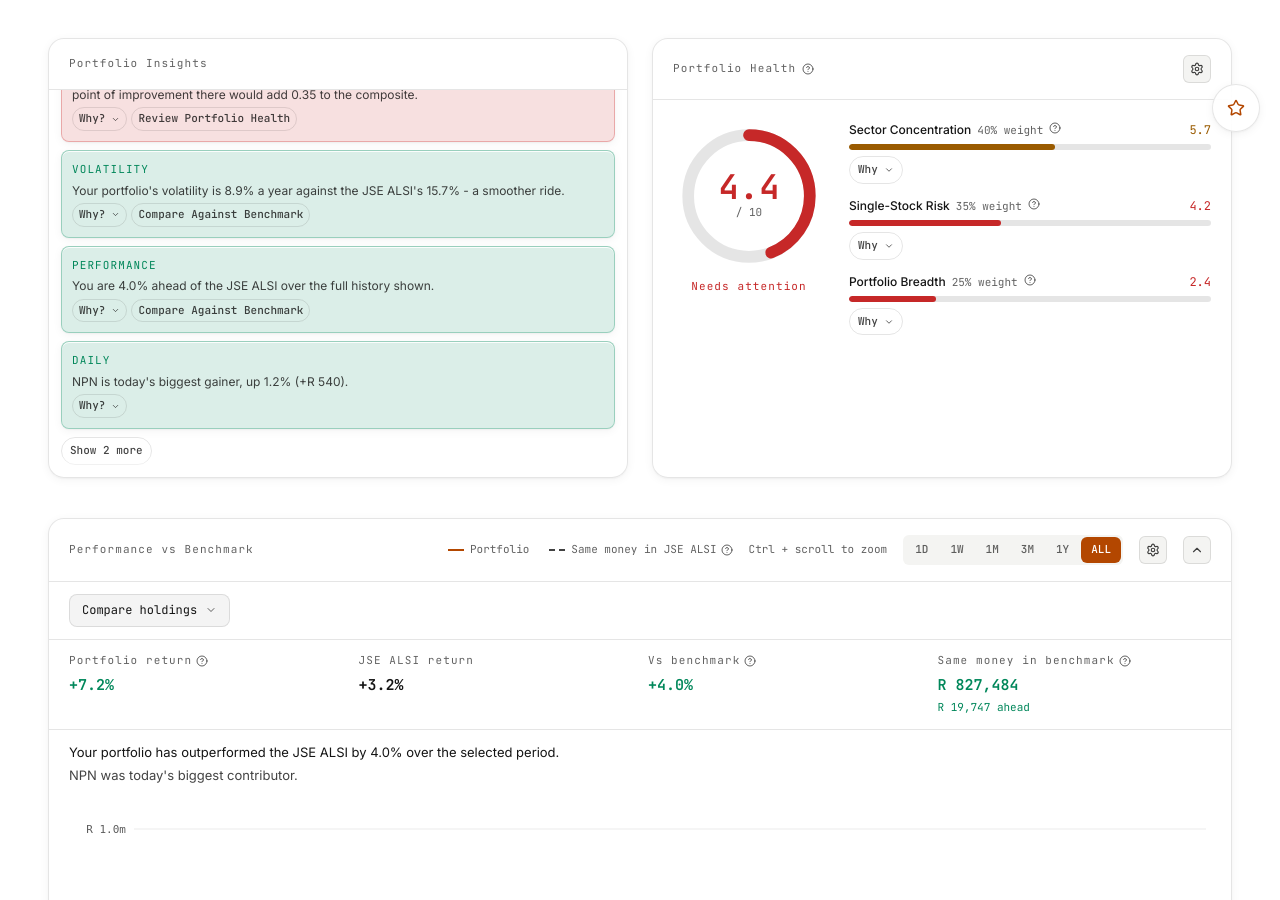
Test: Dashboard › caps Today's Insights at two sector items, so the missing-sector nudge gives way
The image size is (1280, 900).
(page scrolled)
Expected: the text "Portfolio Insights" is shown, [69,55,208,73]
What coordinates should you click on to do the following:
click the button "Show 2 more"
I would click on:
 (106, 451)
Its box is [61,437,152,465].
(page scrolled)
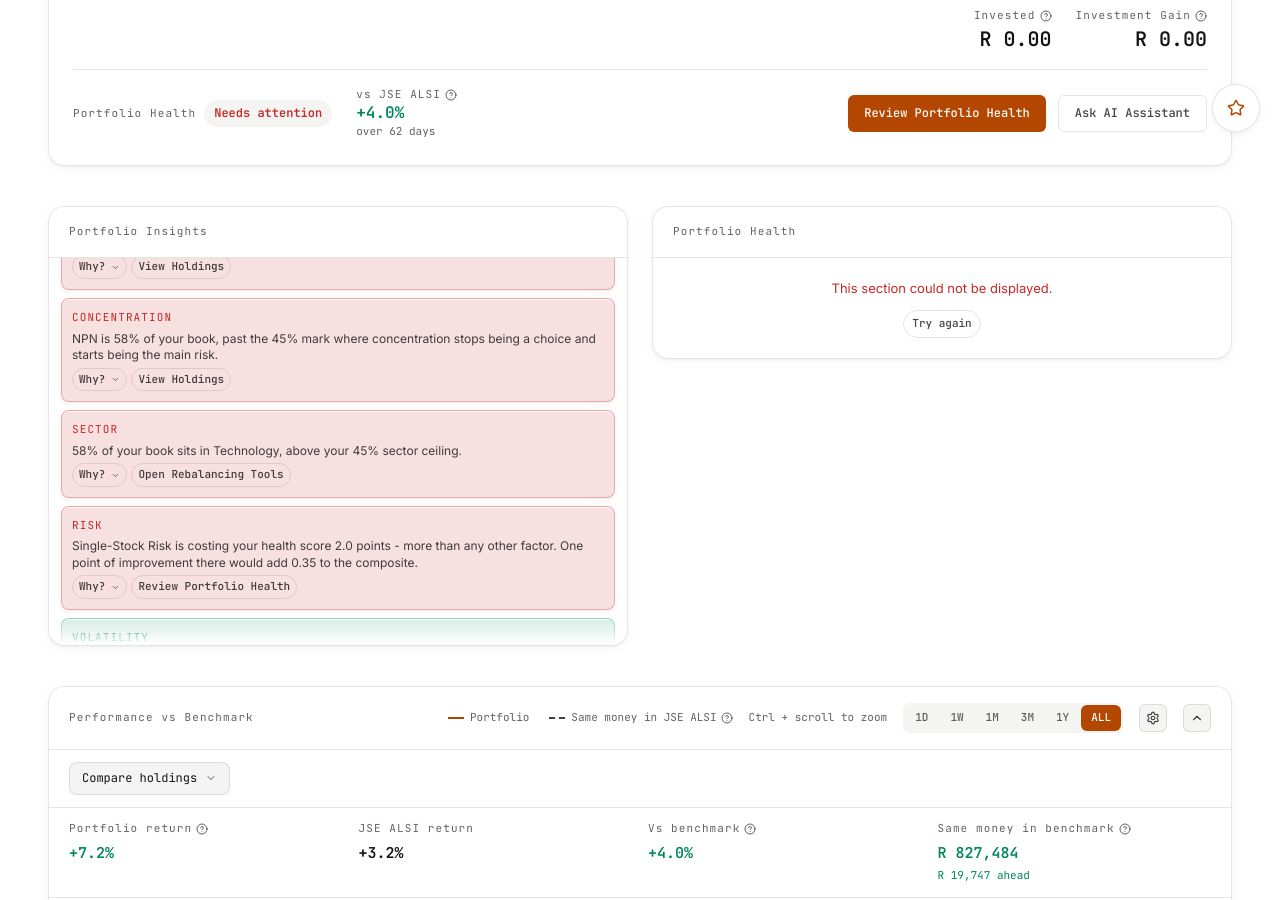
Result: the text "above your 45% sector ceiling" is shown at [72,443,462,458]
